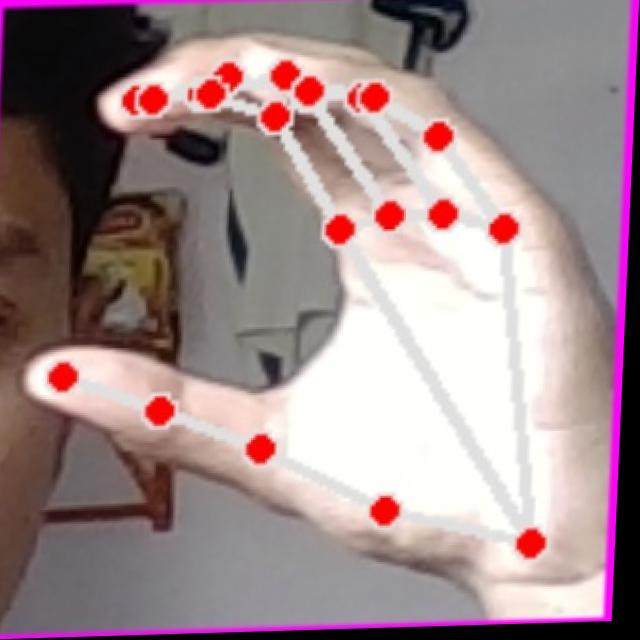C: (12, 13, 620, 597)
